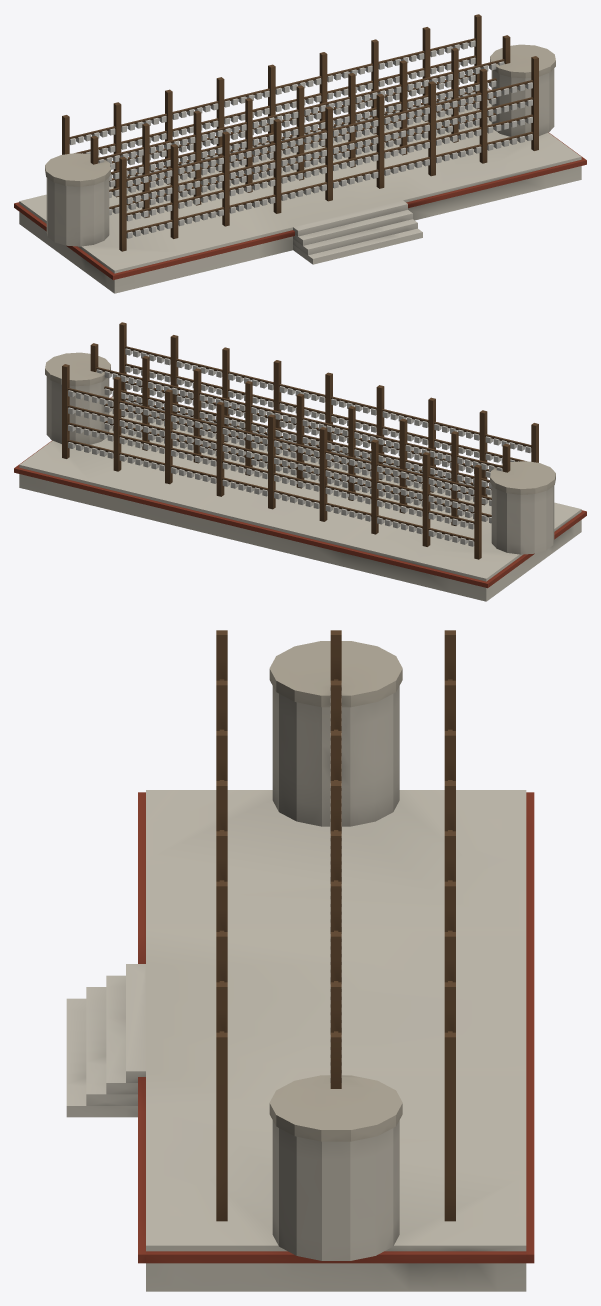
The model's file is huey-tzompantli.glb.
3 views of the same model, one above another, from view 1: azimuth 30°, elevation 25°; view 2: azimuth 150°, elevation 25°; view 3: azimuth 270°, elevation 25° (orthographic). The views are drawn at different scales.
Visible parts, largest first — view 1: p0_platform, p2_skulls, p1_rack; view 2: p0_platform, p2_skulls, p1_rack; view 3: p0_platform, p2_skulls, p1_rack.
Part boxes in pixels (bbox=[...]): p0_platform: bbox=[14, 88, 586, 293]; p2_skulls: bbox=[45, 40, 555, 246]; p1_rack: bbox=[62, 14, 538, 251]; p0_platform: bbox=[14, 396, 586, 601]; p2_skulls: bbox=[45, 348, 555, 554]; p1_rack: bbox=[62, 322, 538, 559]; p0_platform: bbox=[66, 790, 534, 1291]; p2_skulls: bbox=[269, 641, 402, 1260]; p1_rack: bbox=[216, 630, 455, 1221].
Bounding box in the file's own units: 36.49 × 8 × 14.75.
